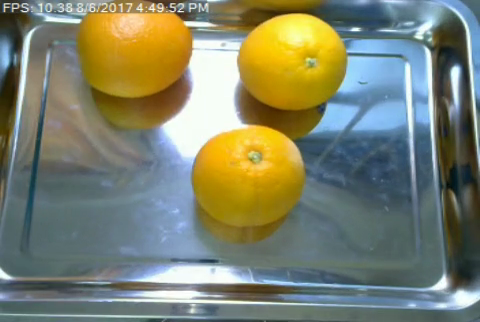Orange: (190, 126, 304, 226), (235, 13, 347, 111), (76, 12, 194, 97)
